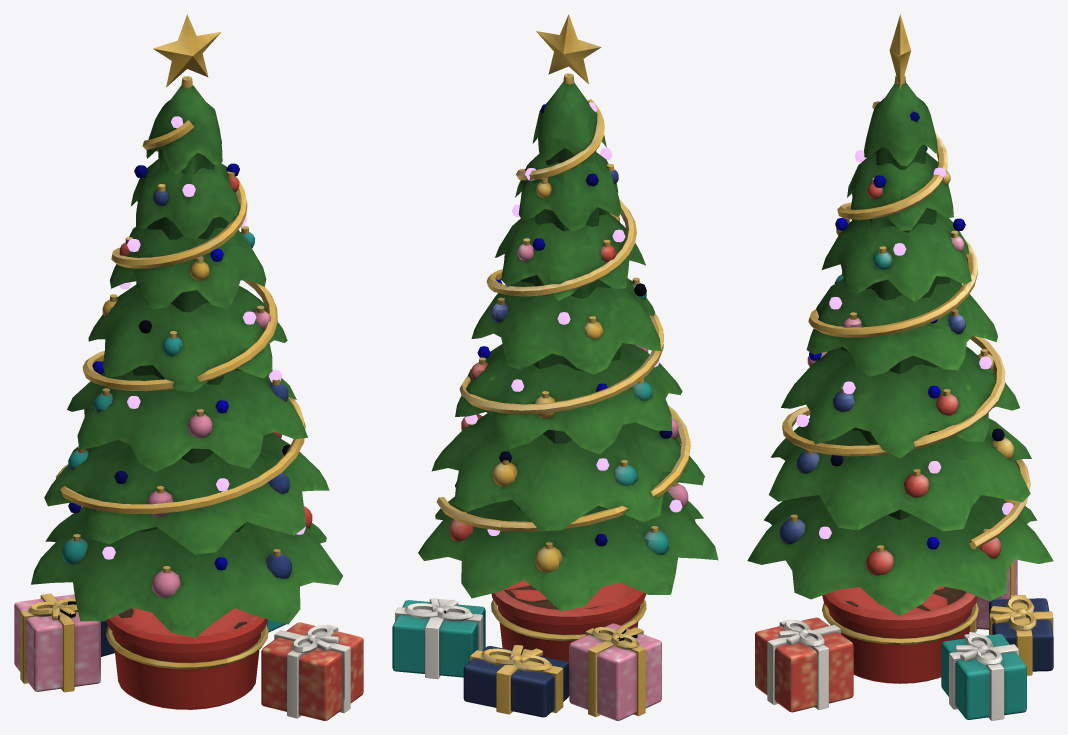
The model's file is party-tree.fbx.
The picture shows the model from 3 angles, left to right: view 1: azimuth 30°, elevation 25°; view 2: azimuth 150°, elevation 25°; view 3: azimuth 270°, elevation 25°; orthographic projection. The views are drawn at different scales.
Visible parts, largest first — view 1: Body, Anim Blink.002, Anim Blink.001, Anim Blink.003, Anim Blink; view 2: Body, Anim Blink.001, Anim Blink, Anim Blink.003; view 3: Body, Anim Blink.002, Anim Blink.003, Anim Blink.001.
Part boxes in pixels (box(x1,y1,x2,y2)): Body: box(14, 14, 363, 720); Anim Blink.002: box(68, 163, 290, 513); Anim Blink.001: box(119, 184, 305, 534); Anim Blink.003: box(102, 116, 282, 559); Anim Blink: box(92, 165, 227, 570); Body: box(392, 14, 718, 720); Anim Blink.001: box(487, 148, 659, 535); Anim Blink: box(455, 173, 672, 487); Anim Blink.003: box(465, 102, 682, 512); Body: box(747, 14, 1053, 720); Anim Blink.002: box(809, 111, 1004, 466); Anim Blink.003: box(829, 96, 946, 473); Anim Blink.001: box(796, 150, 1013, 539).
Size of the model in its own units: 0.9723 by 2.3 by 0.9883.
